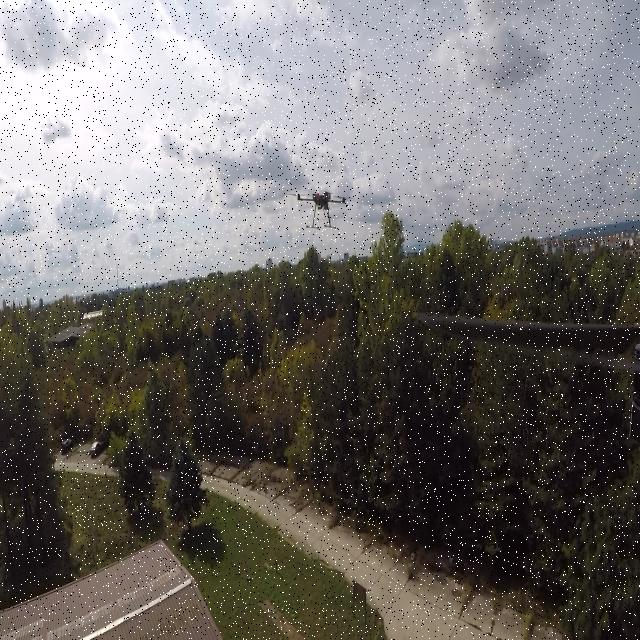UAV: (285, 178, 359, 235)
